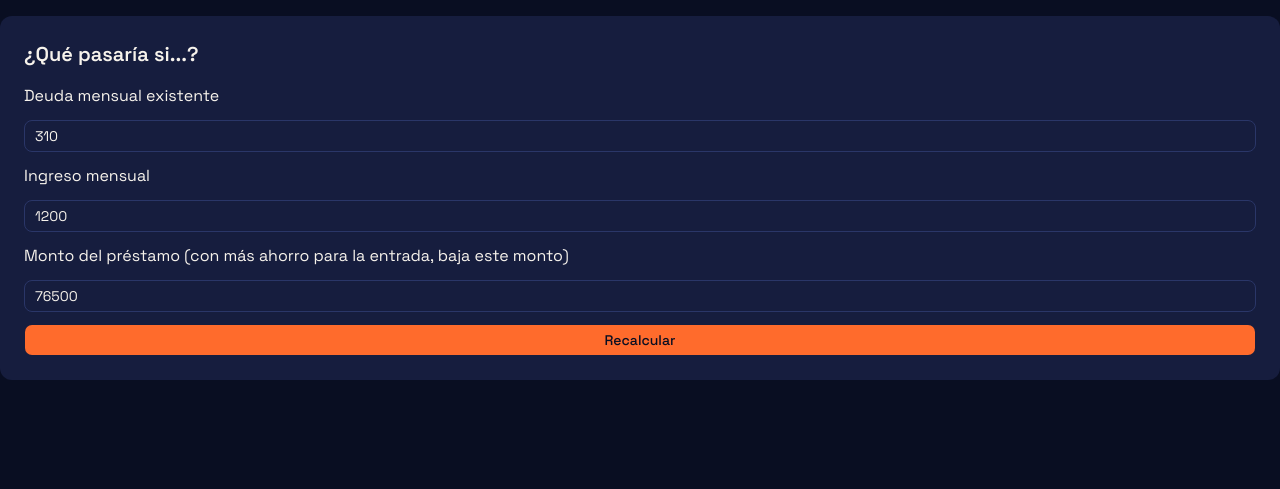
Test case: SimuladorPanel › shows the recalculated qualification after adjusting existing debt
The width and height of the screenshot is (1280, 489).
Replace the text in the field labelled "Deuda mensual existente" with "100": (640, 136) [24, 120, 1256, 152]
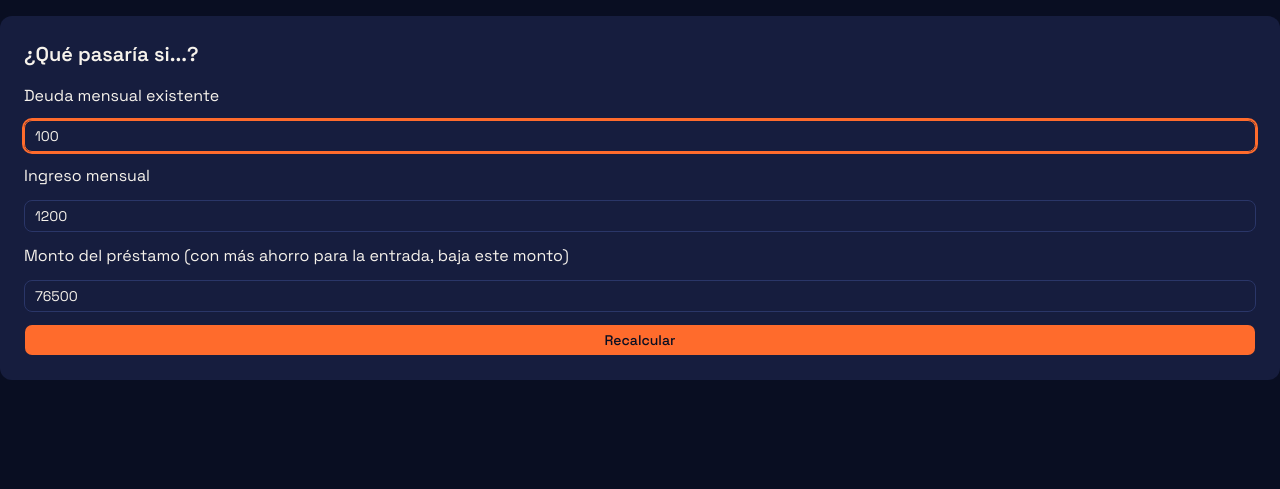
Click the button "Recalcular": (640, 340) [24, 324, 1256, 356]
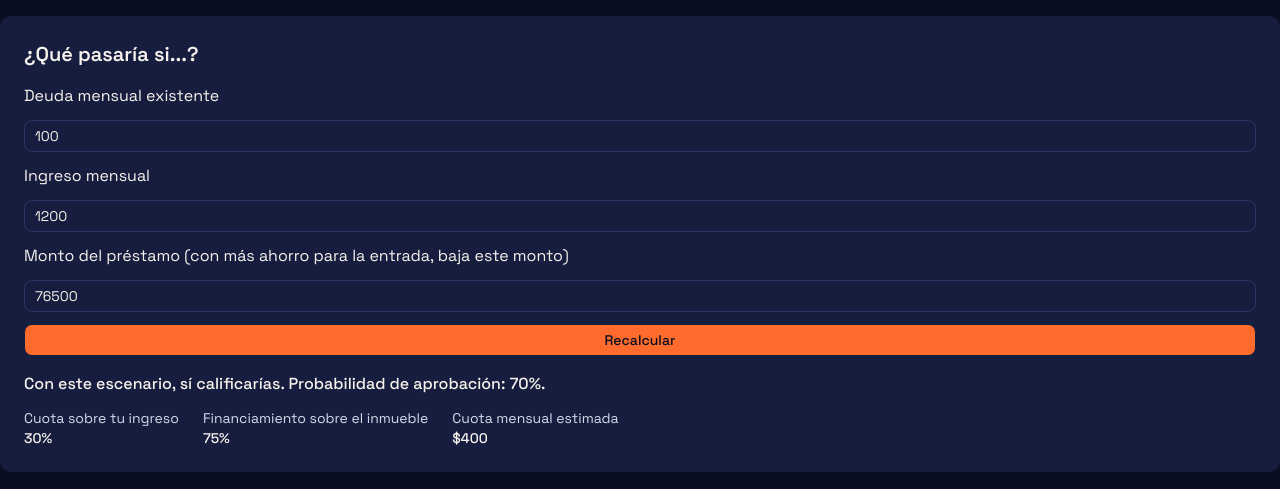
Check: the text "Con este escenario, sí calificarías" is shown, box [24, 373, 284, 394]
